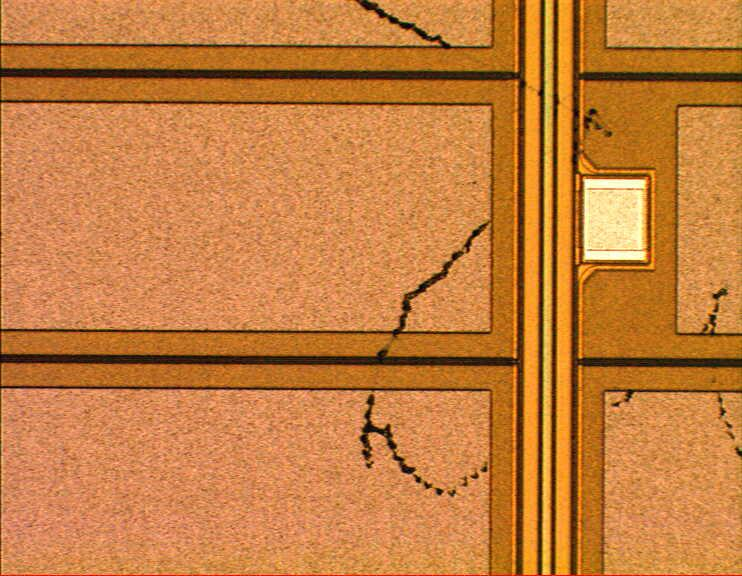SCRATCH: (347, 1, 742, 504)
